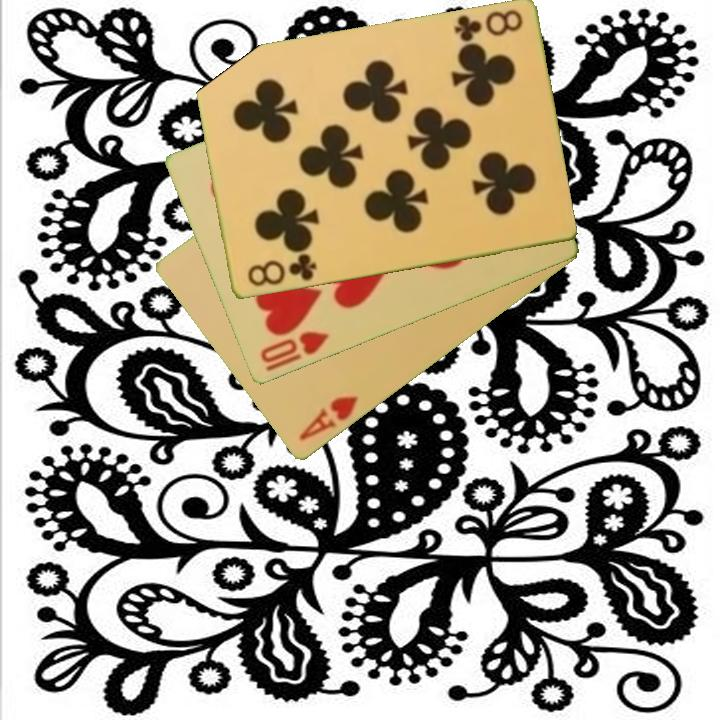10h: (256, 328, 332, 375)
8c: (243, 250, 320, 290), (450, 6, 525, 45)
Ah: (295, 393, 361, 445)
